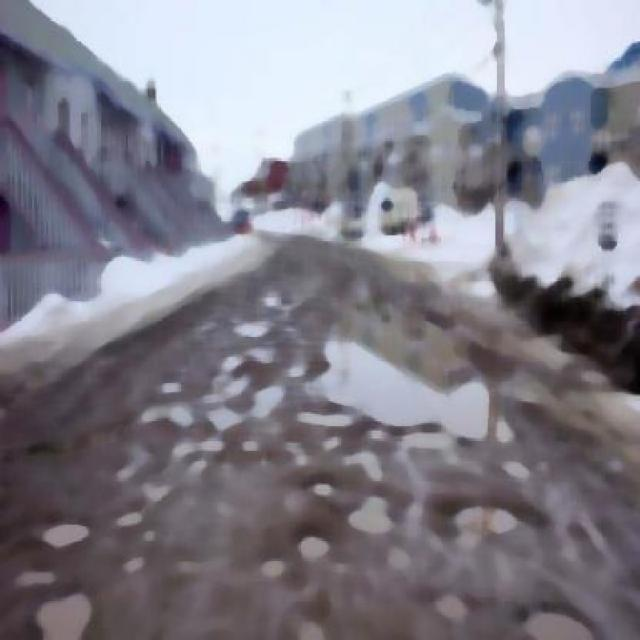Pothole: (326, 305, 497, 441), (425, 471, 533, 551), (522, 566, 603, 639), (33, 572, 115, 638), (39, 498, 92, 562), (302, 516, 332, 573), (345, 502, 389, 536)
